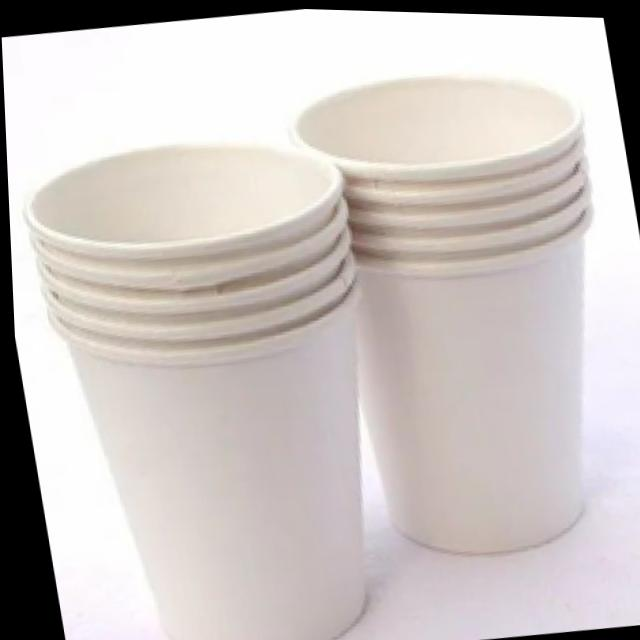paper_cups: (16, 111, 414, 640), (286, 46, 640, 578)
